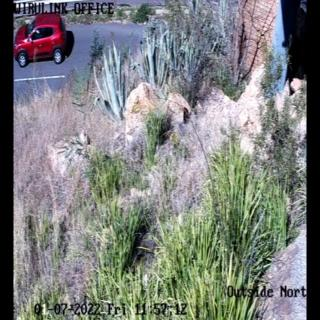car: (13, 22, 73, 64)
